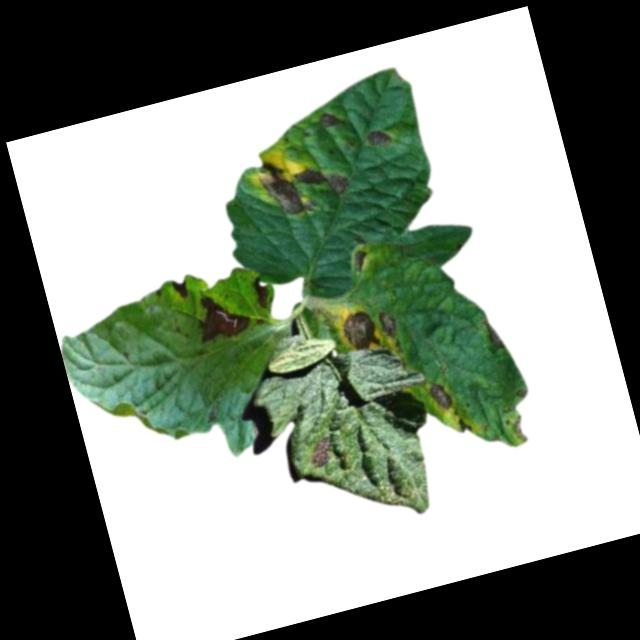Early_blight: (253, 149, 316, 224), (188, 284, 255, 348), (292, 157, 354, 203), (338, 305, 382, 354), (304, 432, 340, 470), (426, 377, 456, 414), (481, 314, 507, 355), (250, 270, 274, 311), (376, 305, 402, 335), (365, 125, 395, 151), (508, 411, 529, 445), (348, 247, 372, 275), (317, 107, 345, 130), (170, 275, 193, 302), (455, 414, 475, 435)
